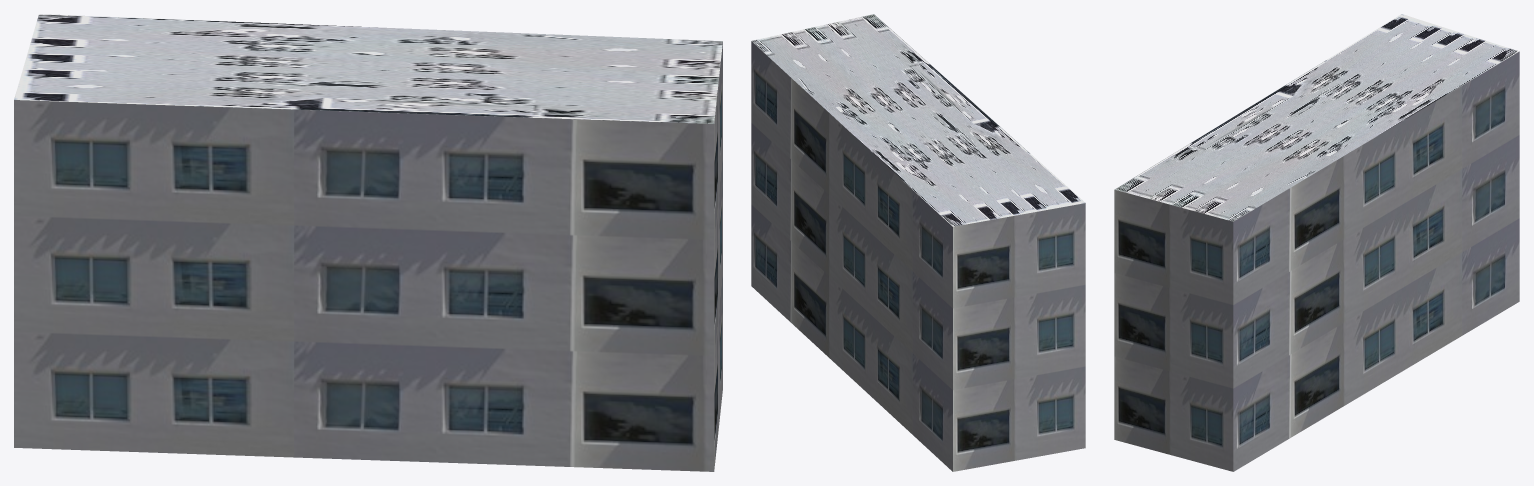
The model's file is ResTex__2218.fbx.
The picture shows the model from 3 angles, left to right: view 1: azimuth 30°, elevation 25°; view 2: azimuth 150°, elevation 25°; view 3: azimuth 270°, elevation 25°; orthographic projection. The views are drawn at different scales.
Parts seen in each view (by area): view 1: CityEngineMaterial_10_m, CityEngineMaterial_2_m; view 2: CityEngineMaterial_10_m, CityEngineMaterial_2_m; view 3: CityEngineMaterial_10_m, CityEngineMaterial_2_m.
Part boxes in pixels (left/top/right/bottom): CityEngineMaterial_10_m: left=14, top=43, right=722, bottom=471; CityEngineMaterial_2_m: left=14, top=14, right=722, bottom=123; CityEngineMaterial_10_m: left=751, top=41, right=1085, bottom=471; CityEngineMaterial_2_m: left=751, top=14, right=1085, bottom=226; CityEngineMaterial_10_m: left=1114, top=51, right=1519, bottom=471; CityEngineMaterial_2_m: left=1115, top=14, right=1519, bottom=221.
Bounding box in the file's own units: 16.02 × 9 × 13.2.
2 materials, 2 textured.
